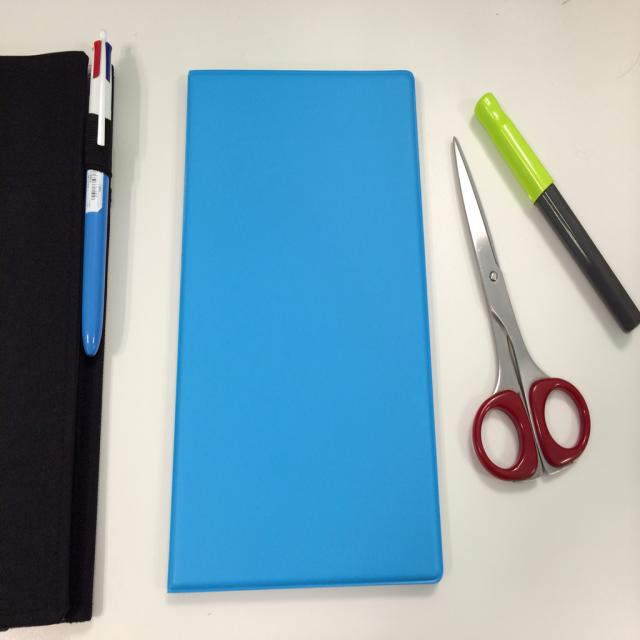scissors: (451, 135, 590, 482)
